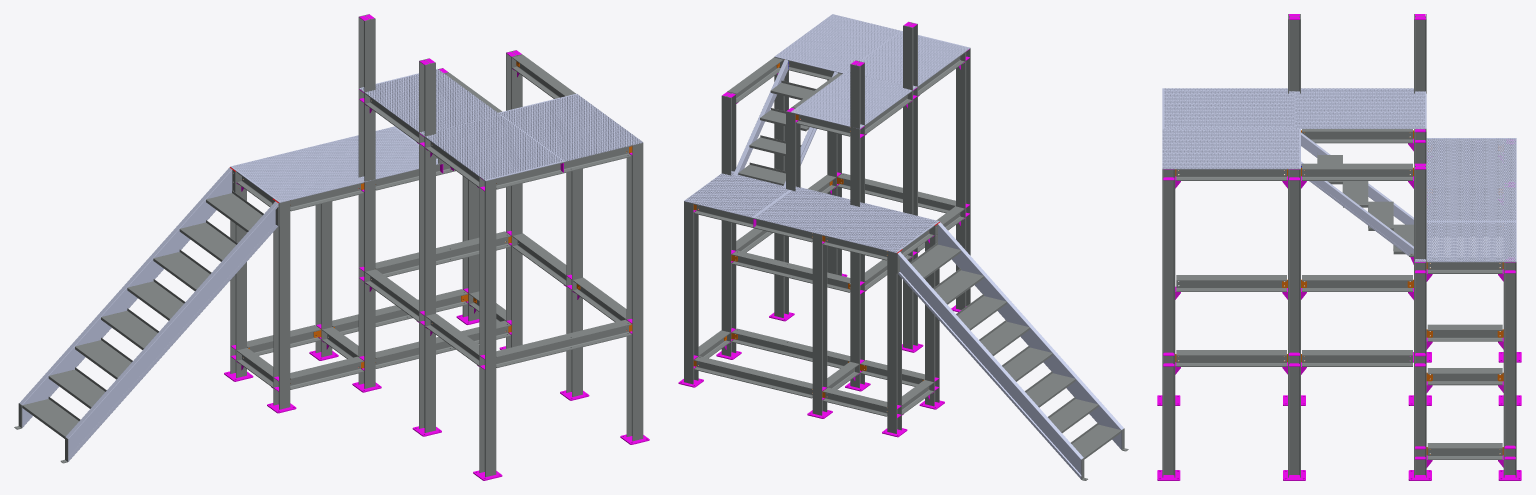
Rendered from assembly-18.glb.
3 renders of one model, left to right at view 1: azimuth 30°, elevation 25°; view 2: azimuth 150°, elevation 25°; view 3: azimuth 270°, elevation 25°, orthographic. The views are drawn at different scales.
Visible parts, largest first — view 1: 鋼構維修操作平台.-1; view 2: 鋼構維修操作平台.-1; view 3: 鋼構維修操作平台.-1.
Boxes of the visible parts, x1,y1,x2,y2 form: 鋼構維修操作平台.-1: (14, 14, 649, 480); 鋼構維修操作平台.-1: (678, 14, 1128, 480); 鋼構維修操作平台.-1: (1157, 14, 1521, 480).
Size of the model in its own units: 5.43 by 4.13 by 3.55.
